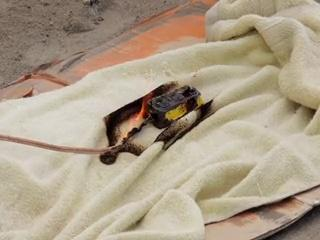Fire: (120, 88, 157, 142)
